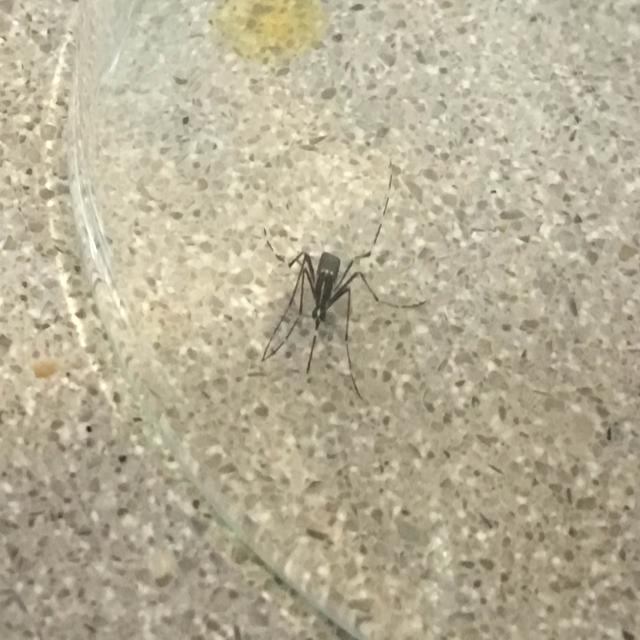albopictus: (249, 151, 427, 406)
